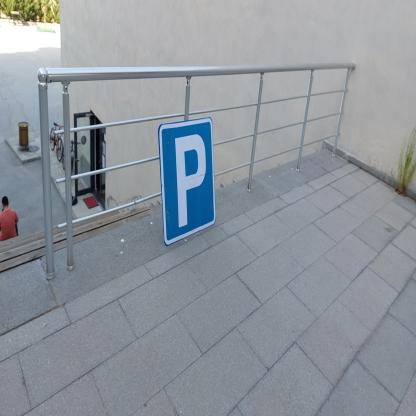Parking-Sign: (159, 117, 217, 247)
